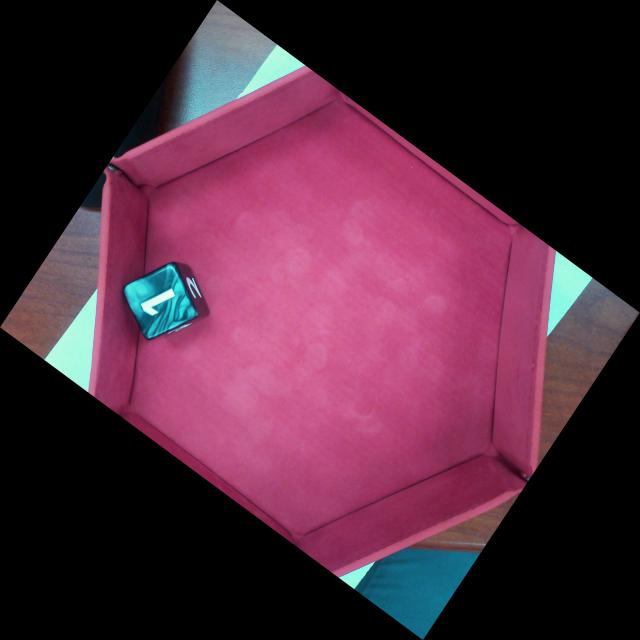dice: (126, 263, 196, 336)
